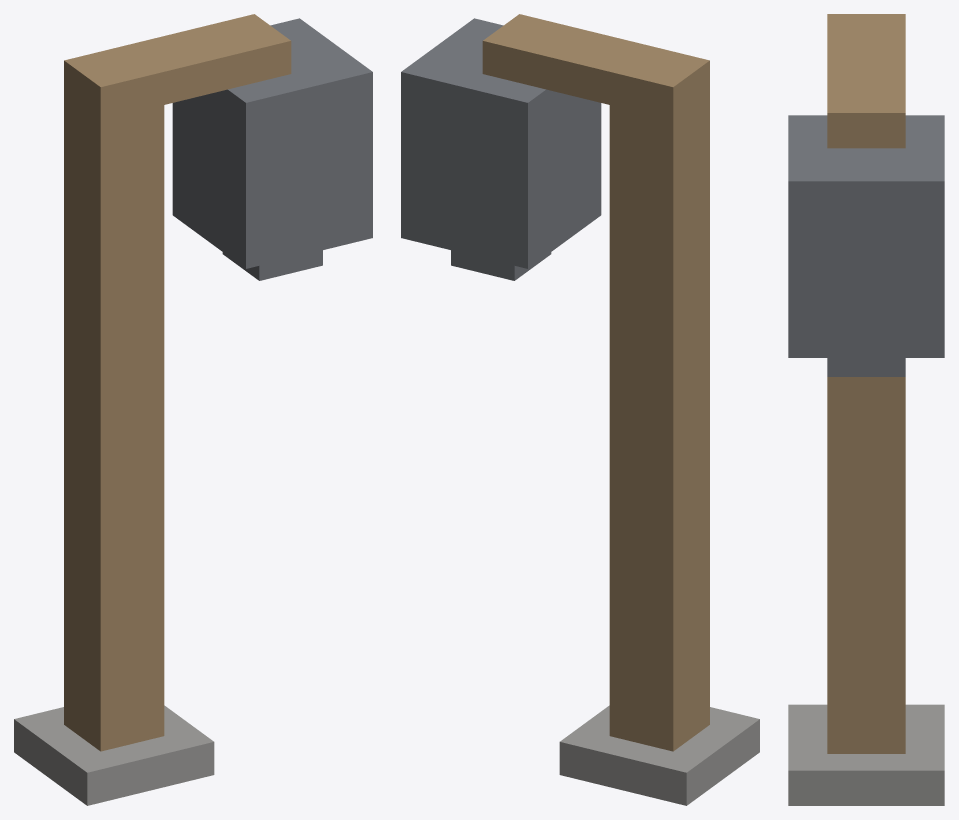
File: lanterne.glb
3 renders of one model, left to right at view 1: azimuth 30°, elevation 25°; view 2: azimuth 150°, elevation 25°; view 3: azimuth 270°, elevation 25°, orthographic. The views are drawn at different scales.
Parts seen in each view (by area): view 1: geometry_0; view 2: geometry_0; view 3: geometry_0.
Part boxes in pixels (<box>): geometry_0: <box>14,14,372,805</box>; geometry_0: <box>401,14,759,805</box>; geometry_0: <box>788,14,944,805</box>.
Bounding box in the file's own units: 1.12 × 2.62 × 0.5.
